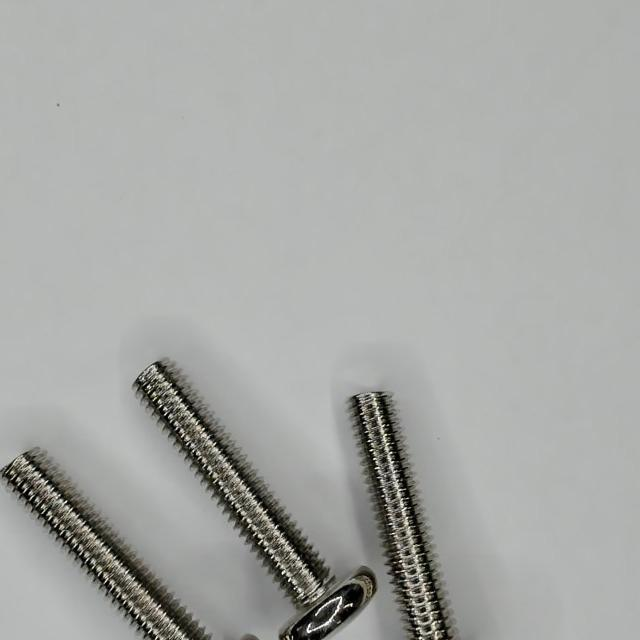Screw: (135, 362, 377, 640), (1, 449, 211, 640), (351, 392, 456, 640)
